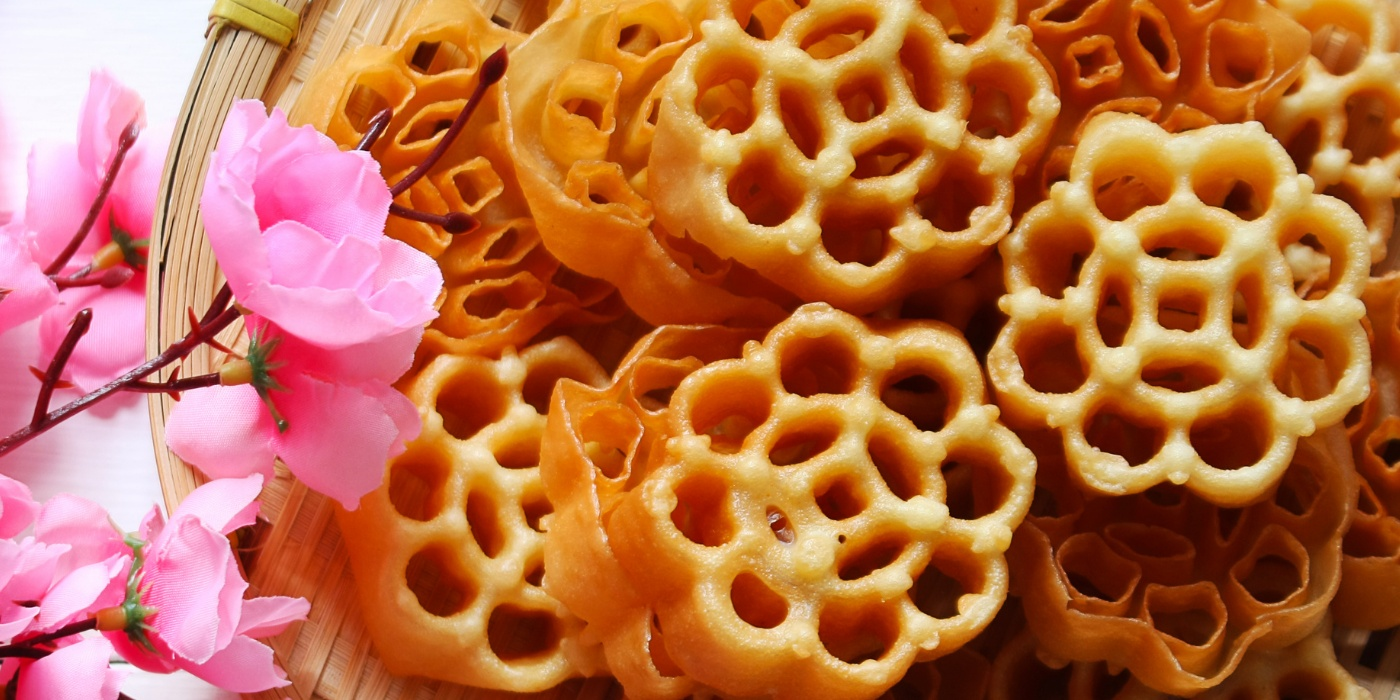kembang_goyang: (624, 305, 1012, 684)
